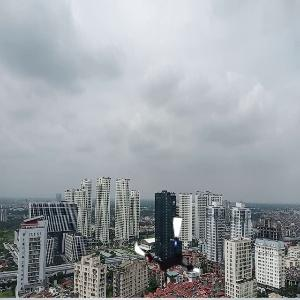drone: (133, 214, 209, 290)
